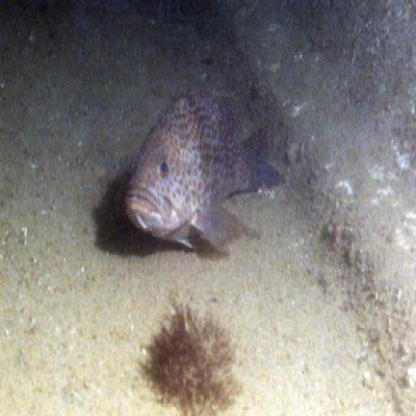grouper: (119, 88, 285, 258)
